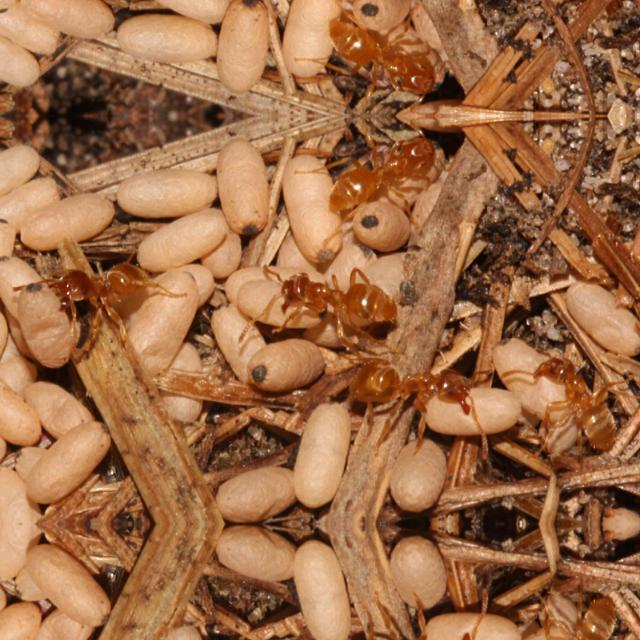Lasius: (237, 252, 433, 344), (325, 346, 505, 446), (302, 126, 448, 240), (300, 0, 448, 104), (36, 238, 168, 346), (532, 327, 636, 458), (325, 600, 505, 640), (530, 588, 636, 640)
